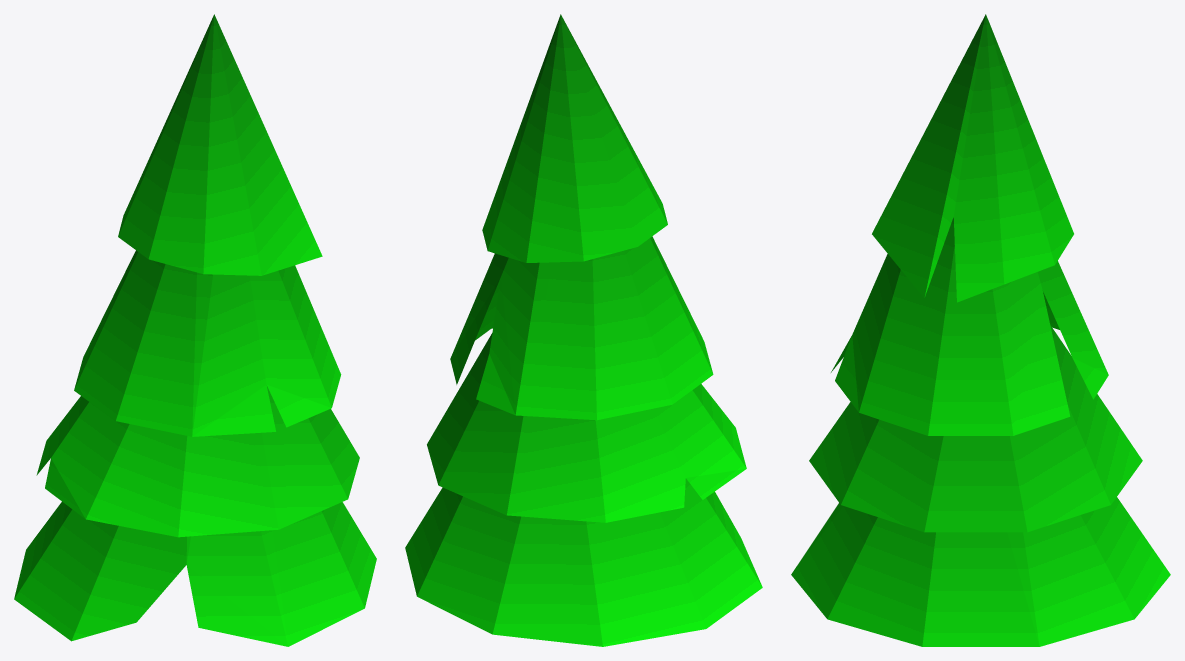
Rendered from Prefab_Foliage_Tree_Pine_Leaves_B.glb.
3 renders of one model, left to right at view 1: azimuth 30°, elevation 25°; view 2: azimuth 150°, elevation 25°; view 3: azimuth 270°, elevation 25°, orthographic. The views are drawn at different scales.
Visible parts, largest first — view 1: PineTree_B_Trunk.011; view 2: PineTree_B_Trunk.011; view 3: PineTree_B_Trunk.011.
Boxes of the visible parts, <box> form: PineTree_B_Trunk.011: <box>14,14,376,646</box>; PineTree_B_Trunk.011: <box>405,14,762,646</box>; PineTree_B_Trunk.011: <box>791,14,1170,646</box>.
Size of the model in its own units: 5.7 by 10.03 by 6.
1 material, 1 textured.
